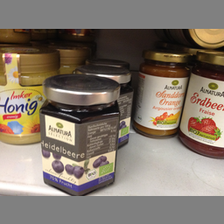jam: (42, 74, 120, 196), (133, 51, 189, 140), (180, 51, 224, 160)
